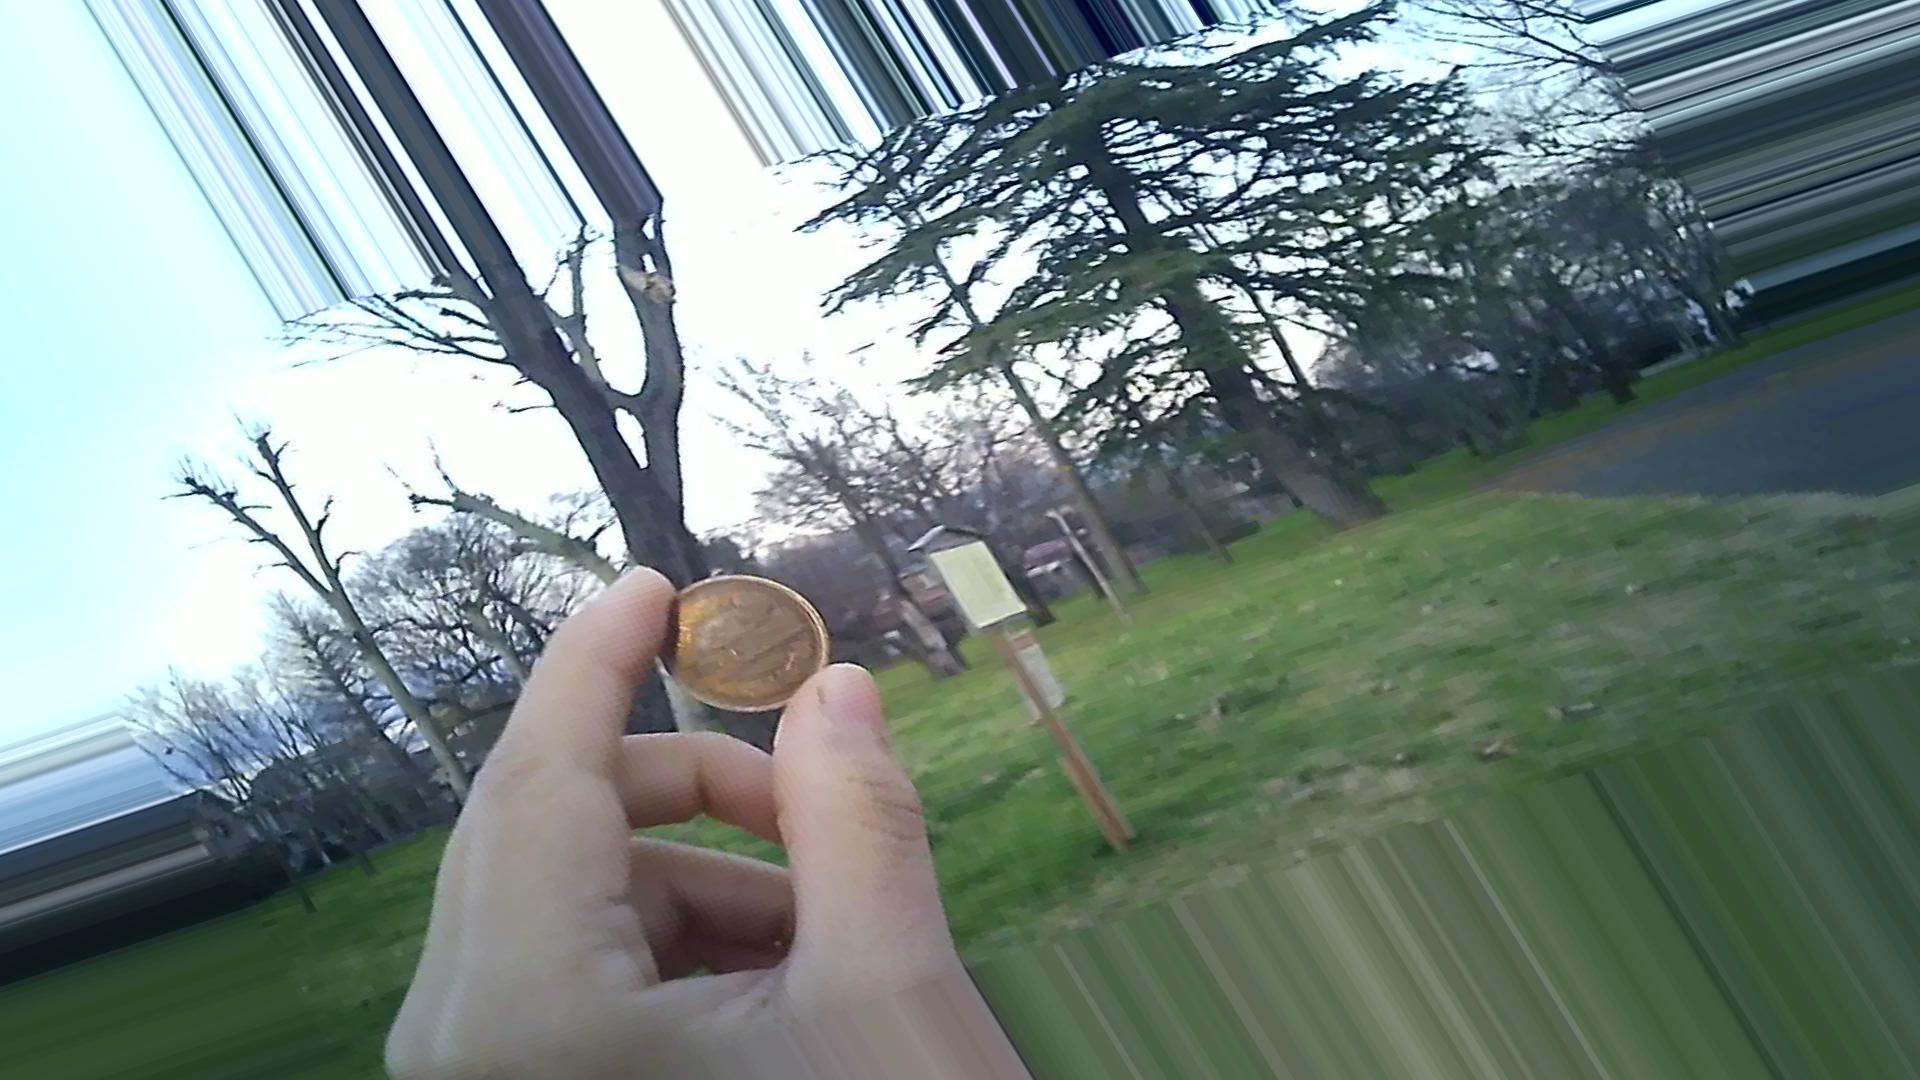10 Yen: (629, 571, 833, 711)
